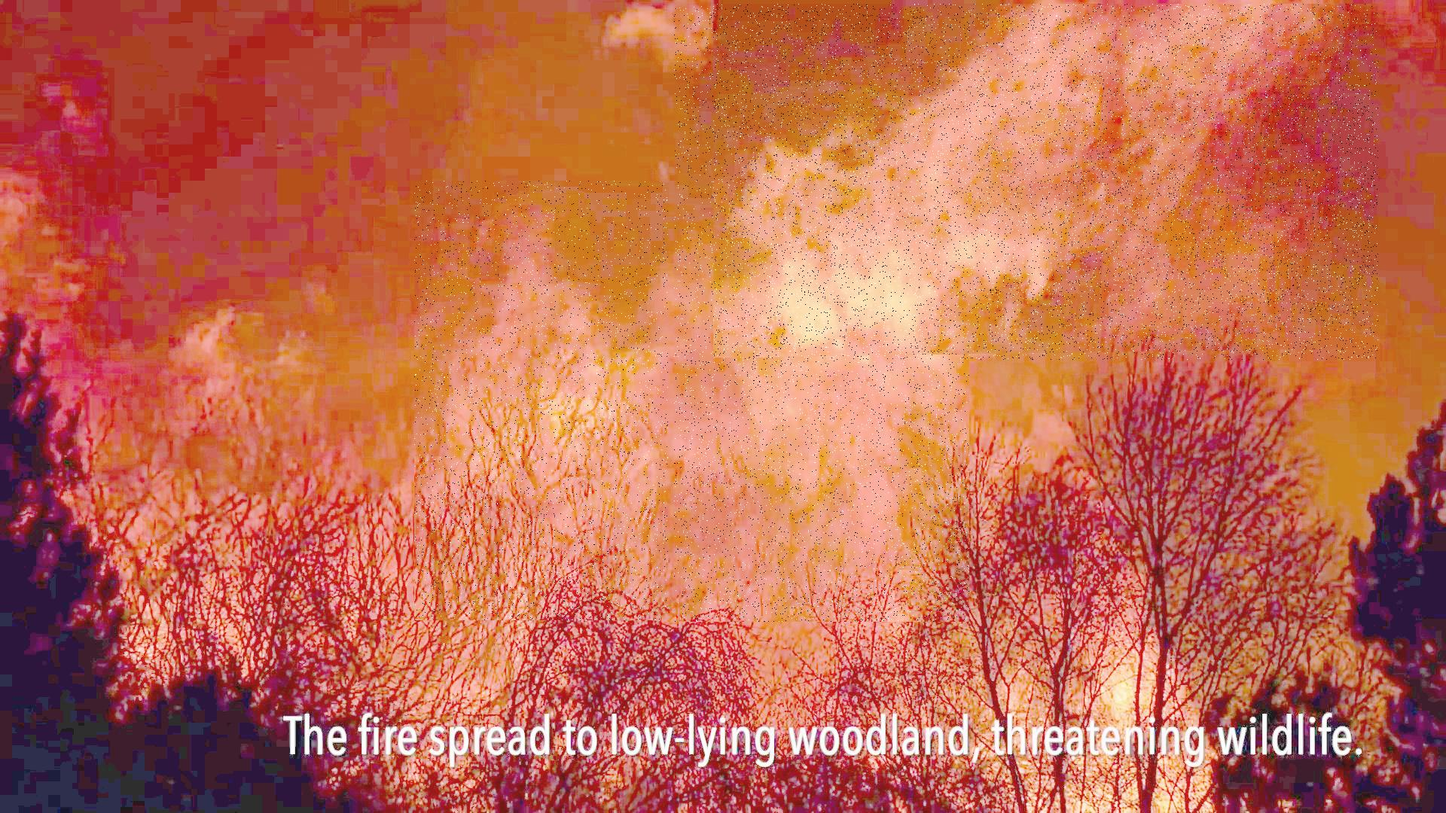fire: (713, 4, 1378, 360), (674, 6, 969, 622), (414, 181, 668, 621)
